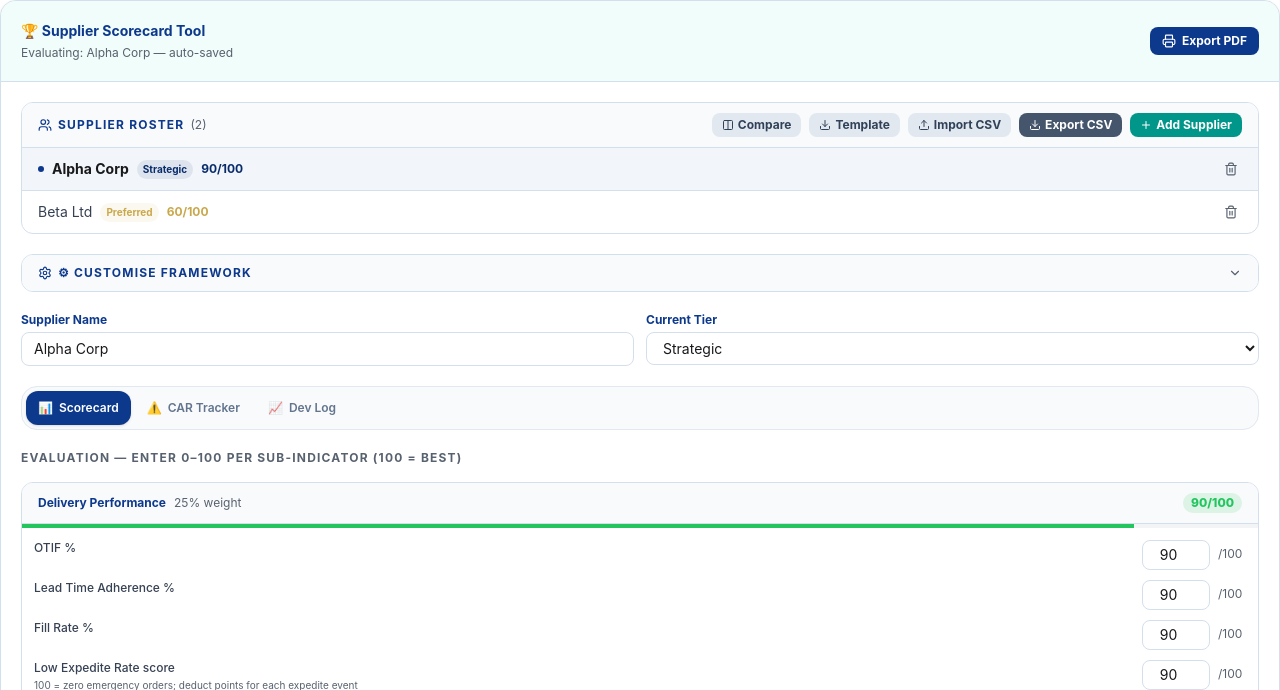
Test case: Comparison table — Winner column, English mode › shows the correct winner name when one supplier clearly outscores the other
The width and height of the screenshot is (1280, 690).
Click the button "Compare" at (757, 125), box [712,113,801,137]
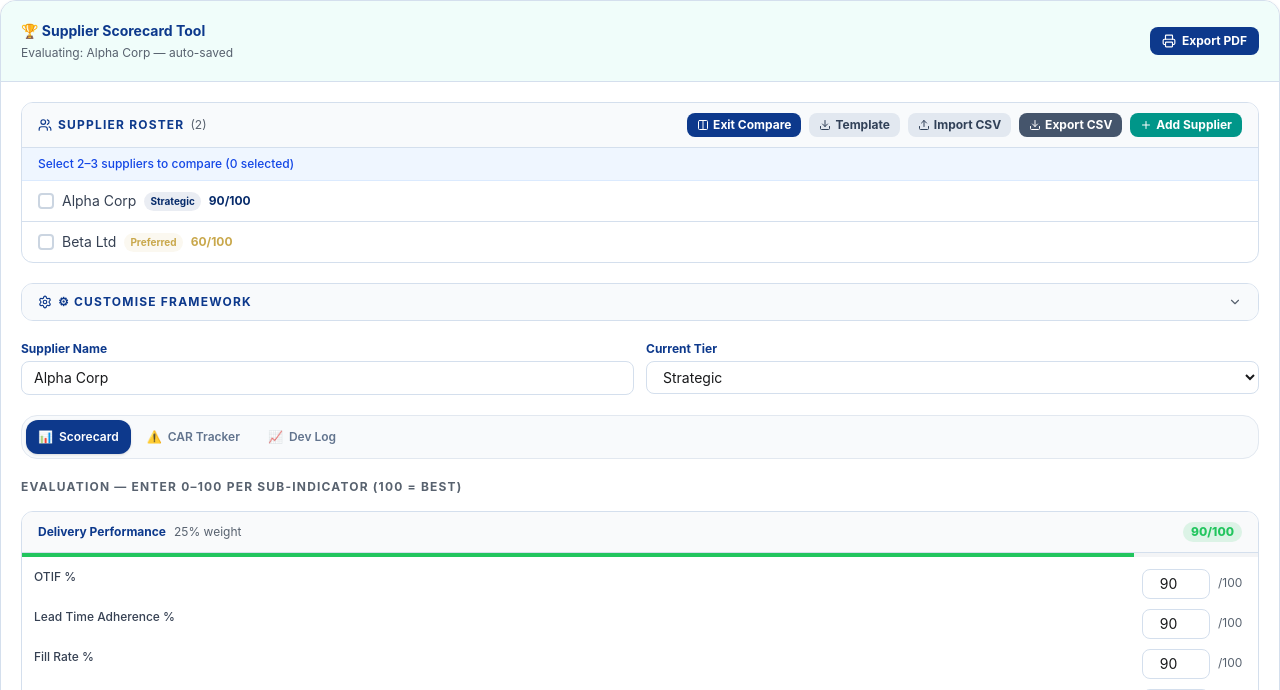
Click the text "Alpha Corp" at (99, 201), box [62,191,136,211]
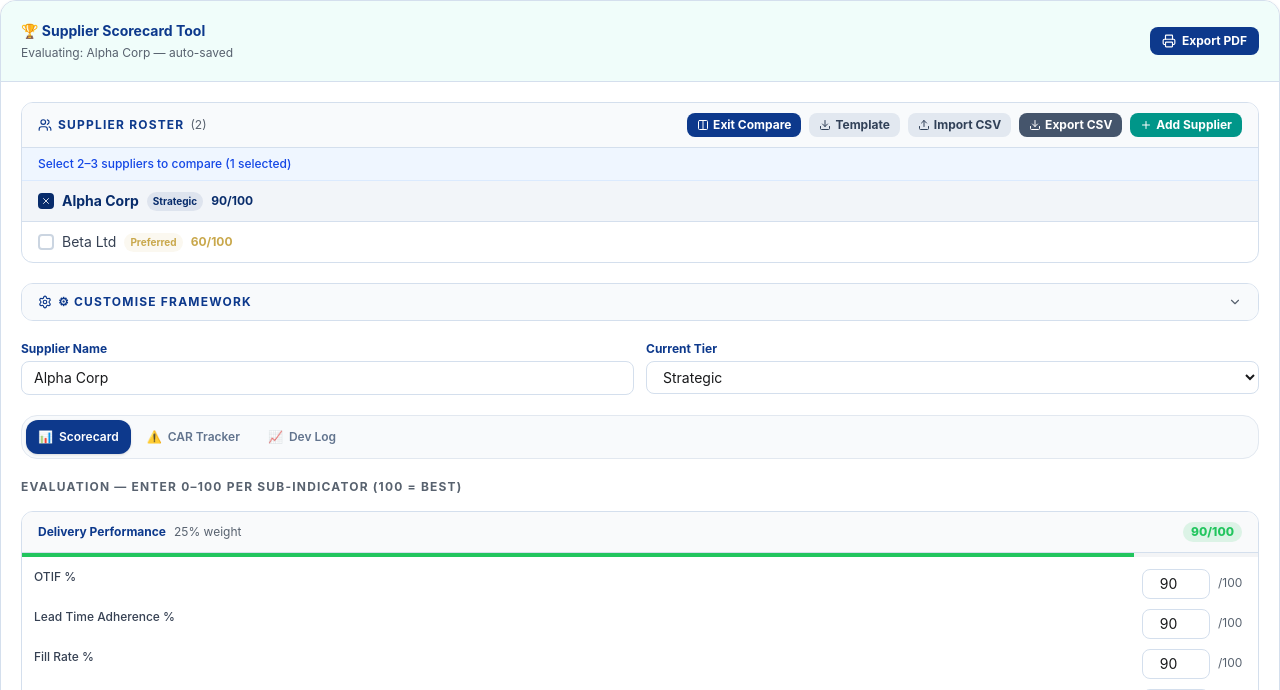
Click the text "Beta Ltd" at (89, 242), box [62,232,116,252]
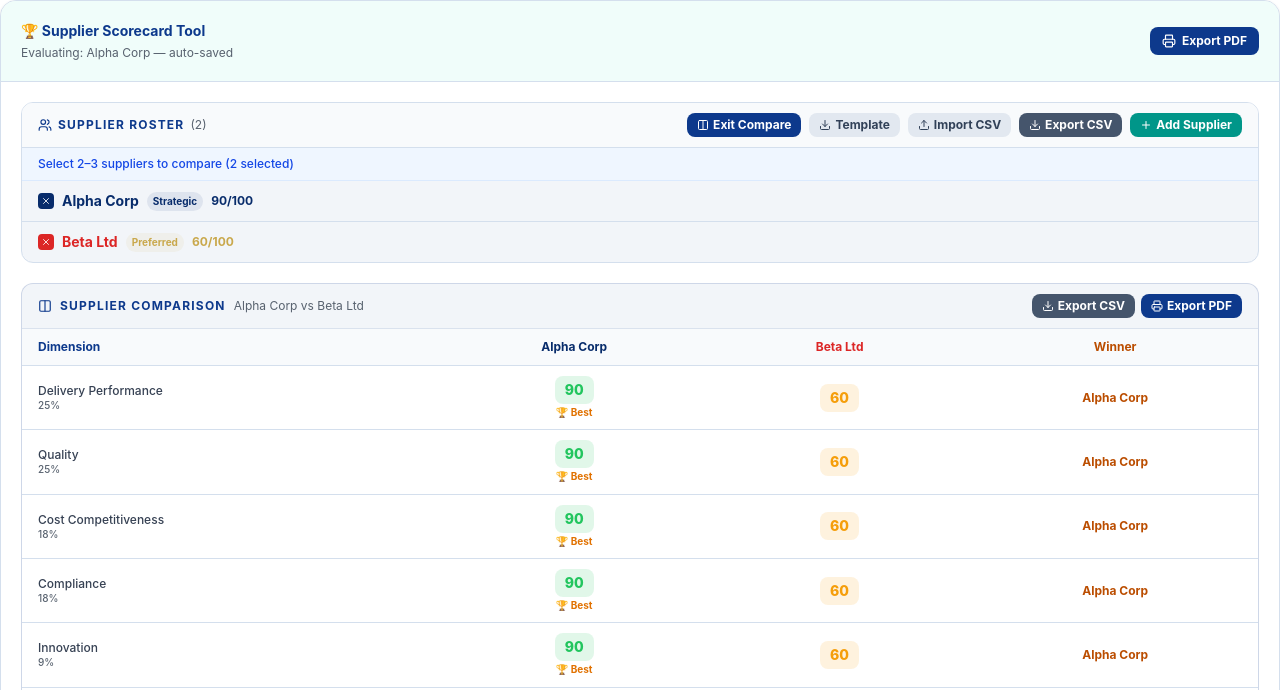
Expected: the text "Tie" is not shown
Now the column heading "Winner" is shown, box [972,329,1258,366]
